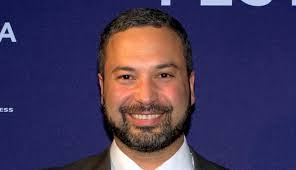middle_eastern_male: (102, 26, 193, 143)
